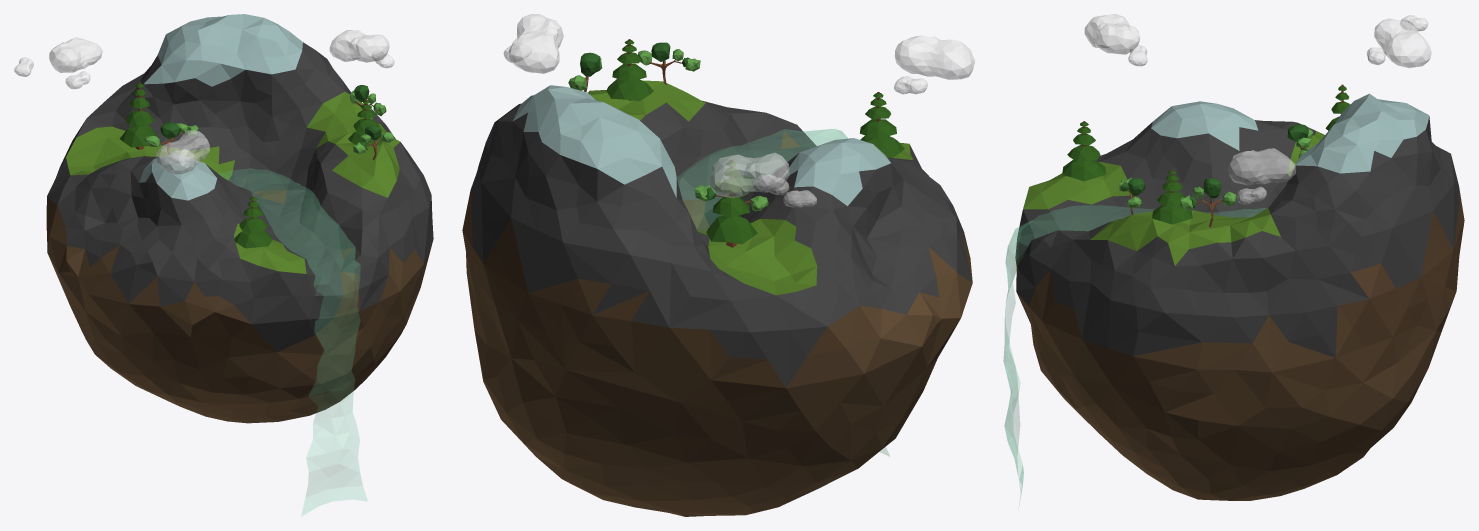
Rendered from low_poly_island.glb.
3 renders of one model, left to right at view 1: azimuth 30°, elevation 25°; view 2: azimuth 150°, elevation 25°; view 3: azimuth 270°, elevation 25°, orthographic. The views are drawn at different scales.
Parts seen in each view (by area): view 1: Icokugel_2, object 2, Icokugel.001_10, object 6, object 4, object 8, object 7, object 3, object 5; view 2: Icokugel_2, Icokugel.001_10, object 2, object 6, object 7, object 4, object 3, object 8, object 5; view 3: Icokugel_2, Icokugel.001_10, object 2, object 4, object 7, object 5, object 3.
Boxes of the visible parts, <box> form: Icokugel_2: <box>46,14,433,423</box>; object 2: <box>219,168,367,516</box>; Icokugel.001_10: <box>14,30,394,174</box>; object 6: <box>119,82,158,149</box>; object 4: <box>234,196,272,248</box>; object 8: <box>144,122,198,154</box>; object 7: <box>348,99,382,146</box>; object 3: <box>353,125,393,160</box>; object 5: <box>349,85,386,116</box>; Icokugel_2: <box>462,80,972,516</box>; Icokugel.001_10: <box>503,14,974,207</box>; object 2: <box>677,129,889,456</box>; object 6: <box>706,159,757,247</box>; object 7: <box>606,39,653,101</box>; object 4: <box>859,92,904,157</box>; object 3: <box>638,42,700,84</box>; object 8: <box>694,174,768,211</box>; object 5: <box>568,52,602,91</box>; Icokugel_2: <box>1015,93,1464,500</box>; Icokugel.001_10: <box>1084,14,1431,204</box>; object 2: <box>1003,205,1266,504</box>; object 4: <box>1062,121,1106,181</box>; object 7: <box>1152,169,1192,224</box>; object 5: <box>1180,178,1236,227</box>; object 3: <box>1119,178,1145,214</box>.
Size of the model in its own units: 0.949 by 1 by 0.9986.
